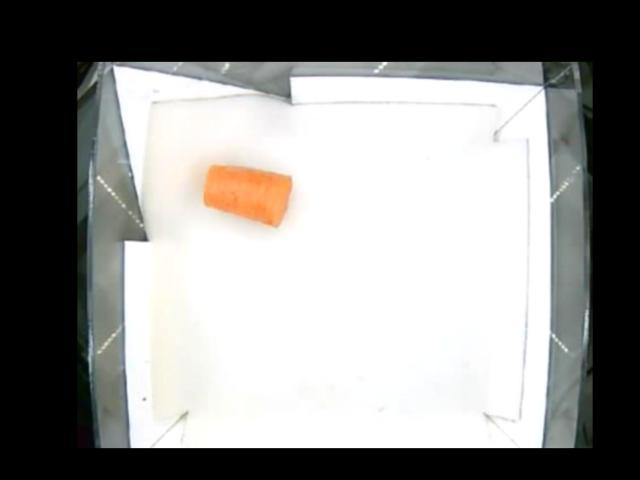Carrot: (202, 164, 296, 228)
